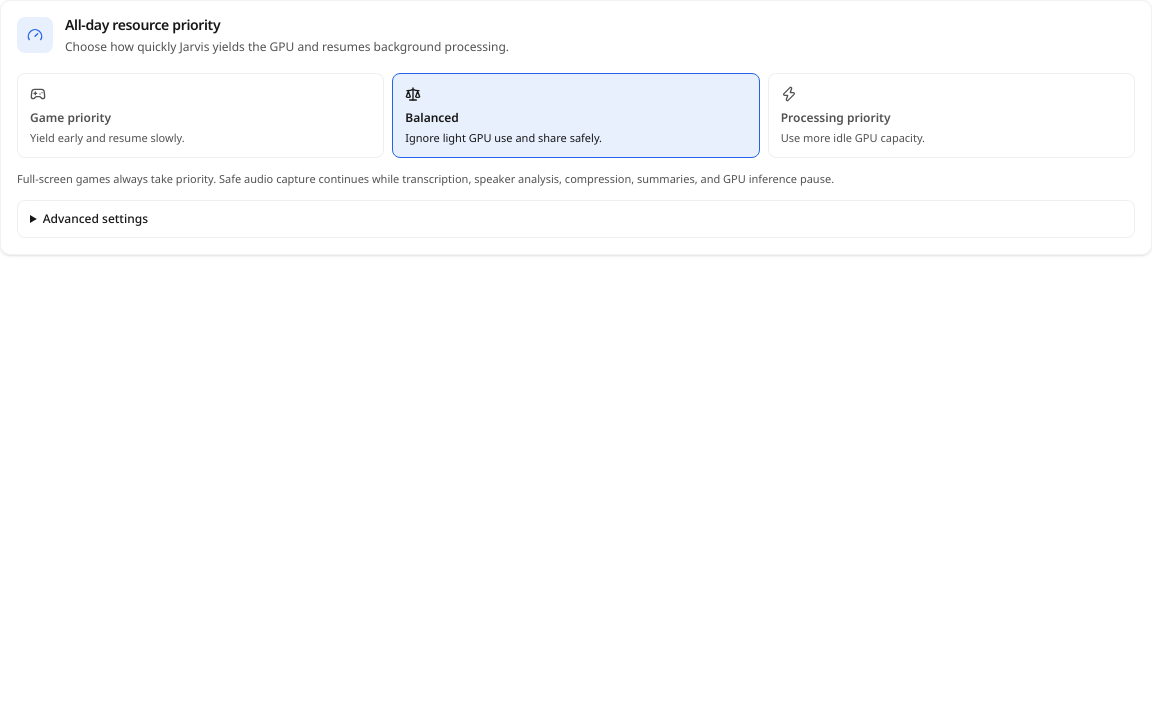
it: ResourceGovernanceSettingsCard › persists bounded advanced threshold and recovery overrides
expect the button "Balanced Ignore light GPU use and share safely." is shown: met, box x1=392 y1=73 x2=760 y2=158
Click the heading "Advanced settings": (95, 218) x1=43 y1=210 x2=148 y2=227
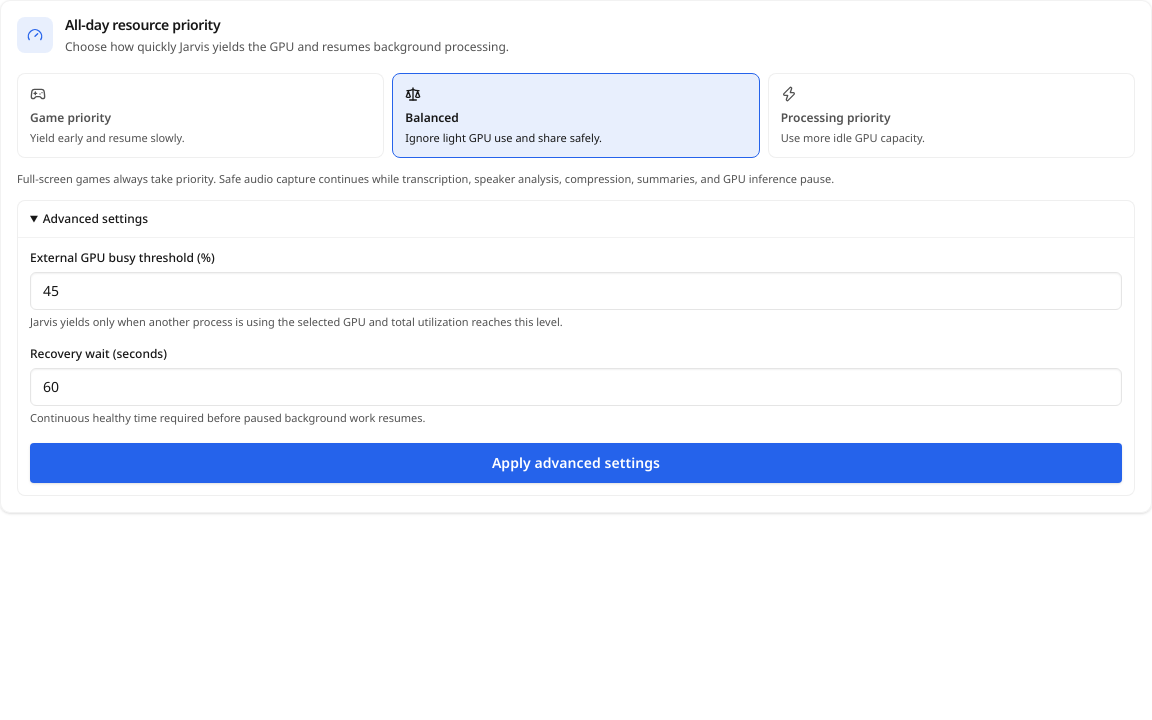
Replace the text in the number field labelled "External GPU busy threshold (%)" with "55": (576, 291) x1=30 y1=272 x2=1122 y2=310
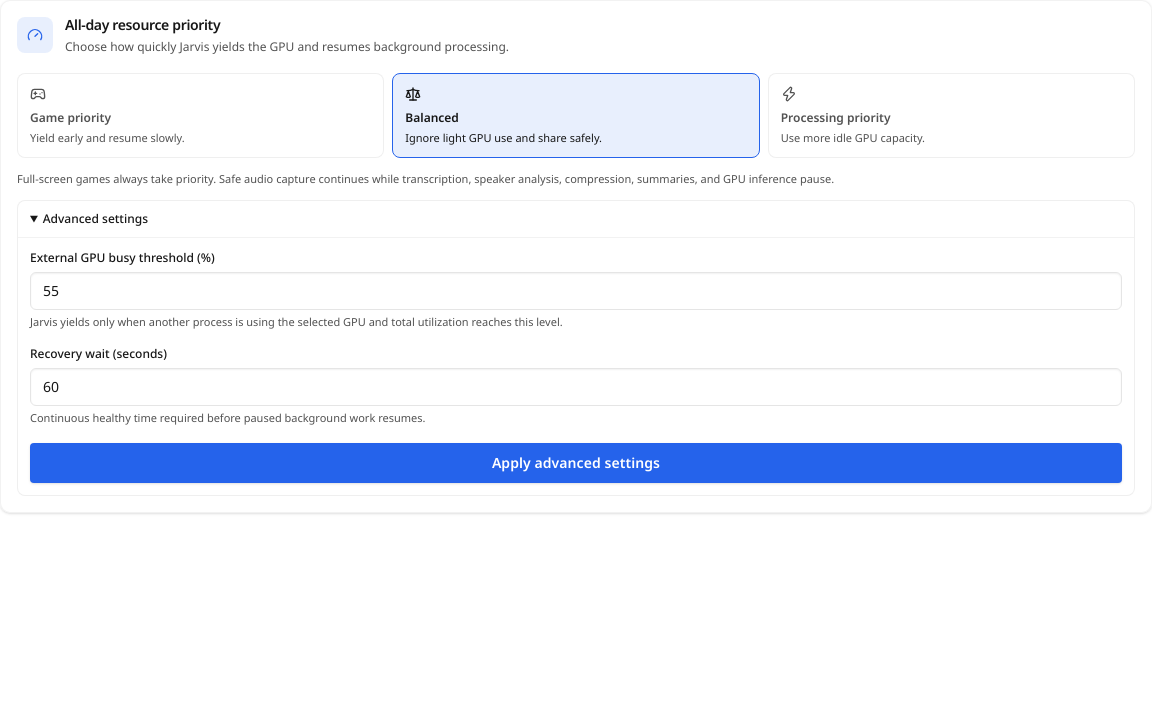
Replace the text in the number field labelled "Recovery wait (seconds)" with "90": (576, 387) x1=30 y1=368 x2=1122 y2=406
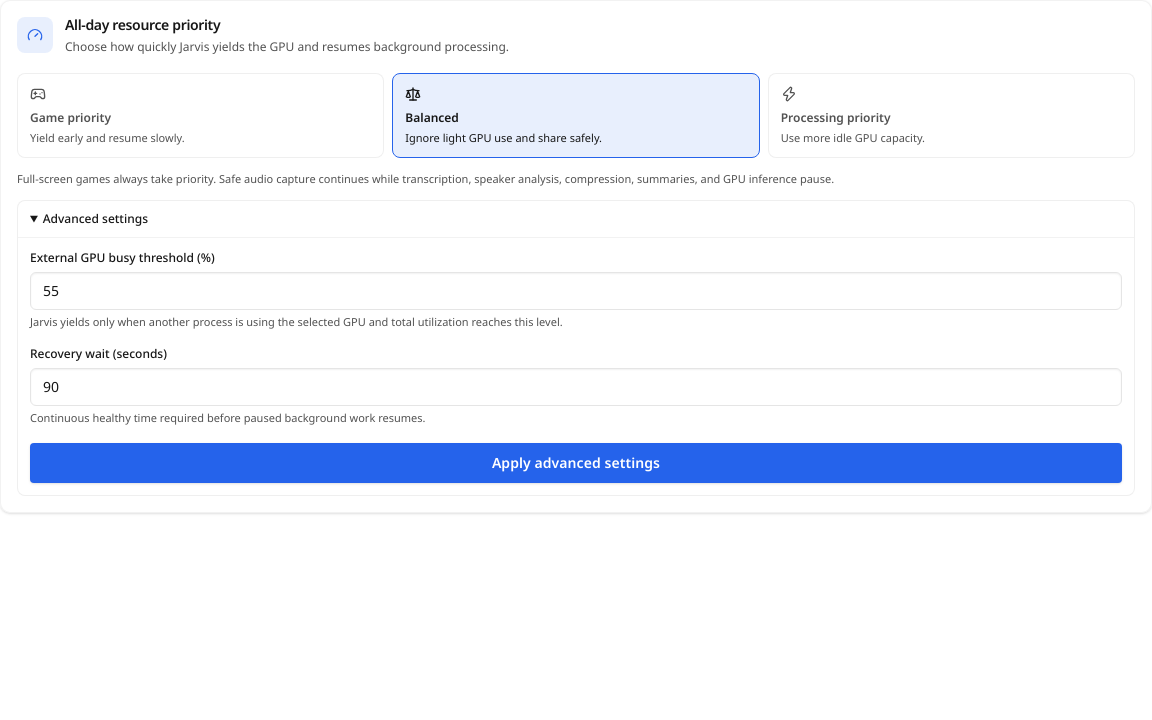
Click the button "Apply advanced settings": (576, 463) x1=30 y1=443 x2=1122 y2=483
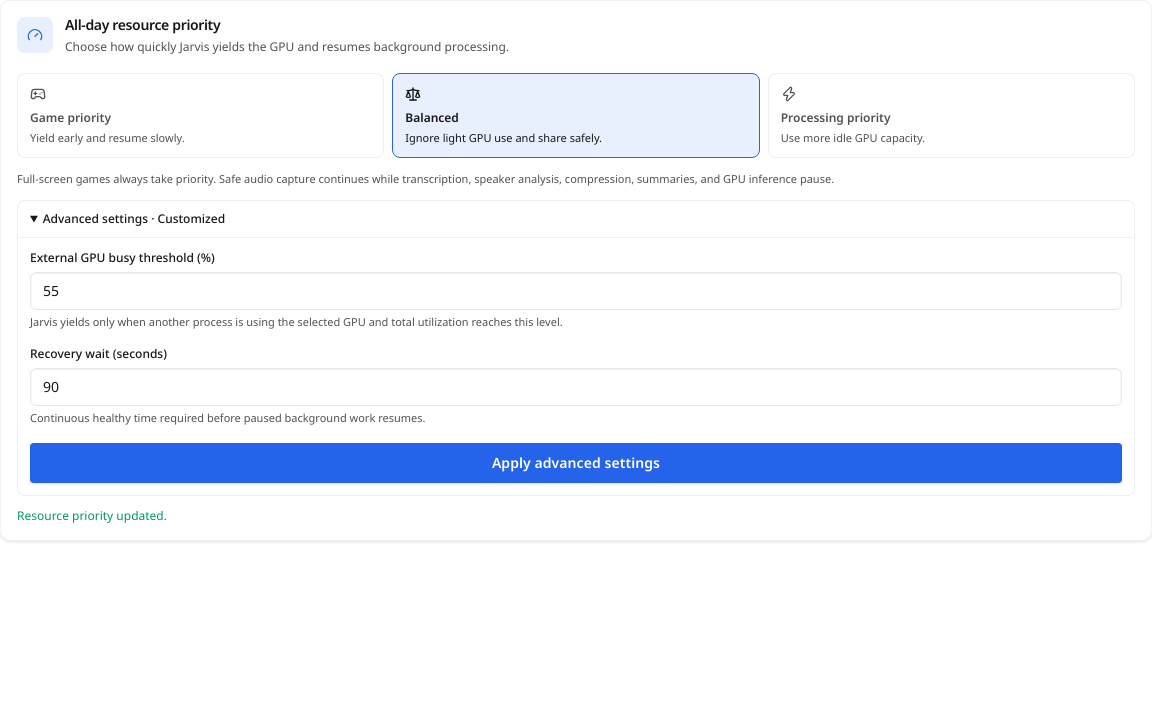
expect the heading "Advanced settings · Customized" is shown: met, box x1=43 y1=210 x2=225 y2=227
